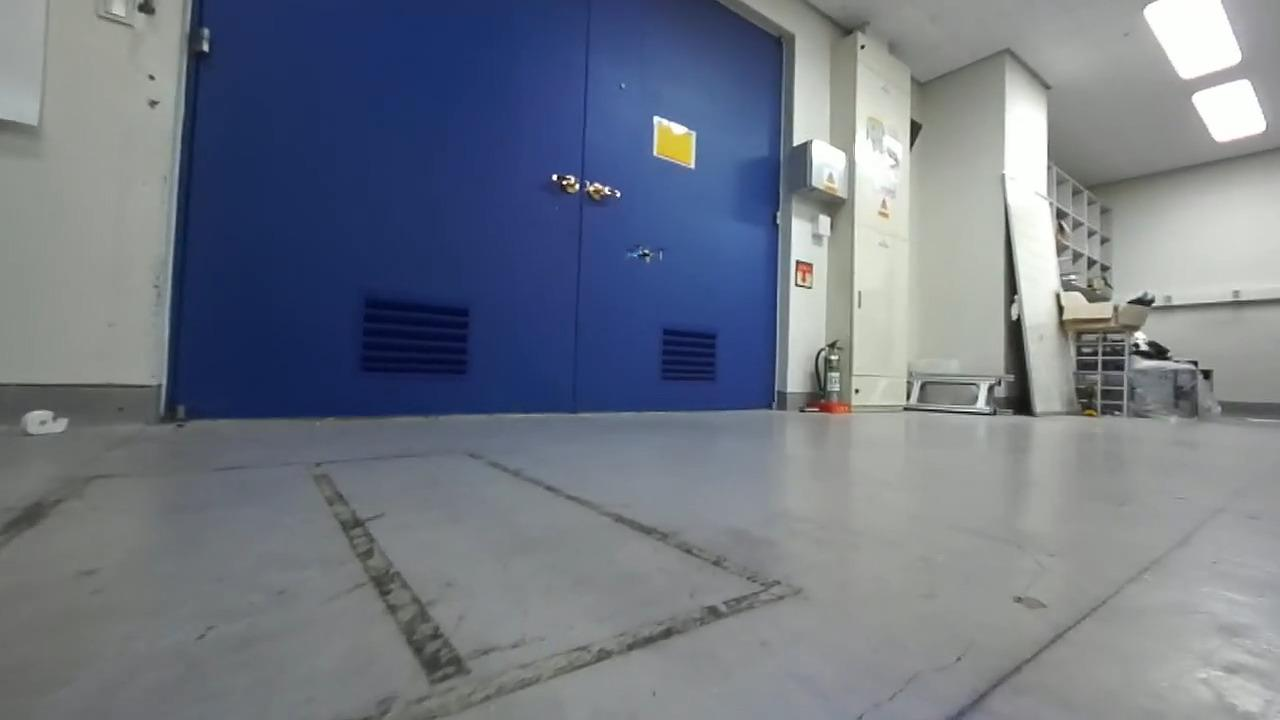crazyflie: (622, 242, 667, 268)
